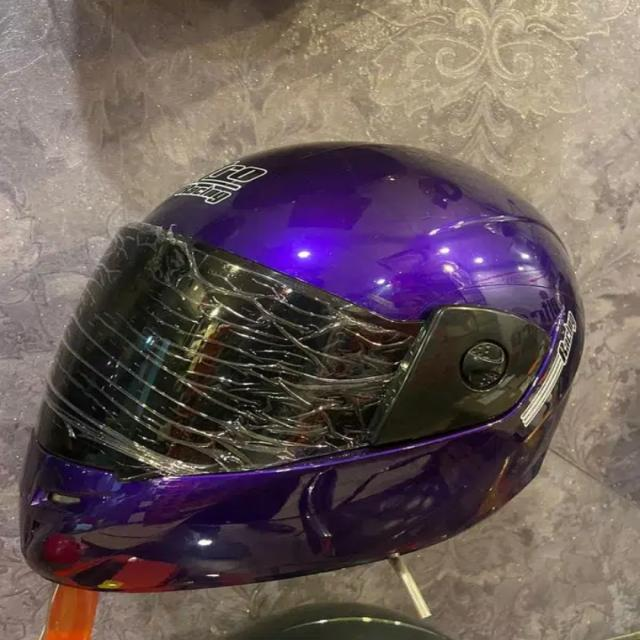Helmet: (60, 115, 571, 580)
